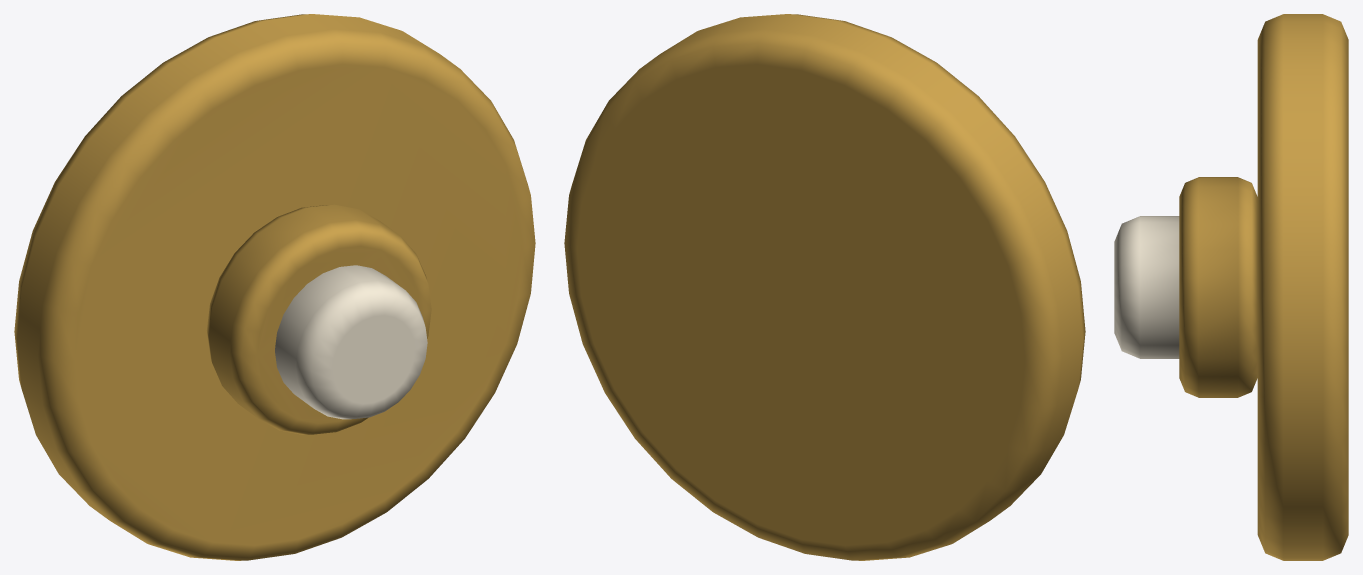
File: doorbell.glb
3 renders of one model, left to right at view 1: azimuth 30°, elevation 25°; view 2: azimuth 150°, elevation 25°; view 3: azimuth 270°, elevation 25°, orthographic. The views are drawn at different scales.
Visible parts, largest first — view 1: doorbell; view 2: doorbell; view 3: doorbell.
Part boxes in pixels (bbox=[...]): doorbell: bbox=[14, 14, 535, 560]; doorbell: bbox=[564, 14, 1085, 560]; doorbell: bbox=[1114, 14, 1348, 560].
Bounding box in the file's own units: 0.084 × 0.084 × 0.036.
